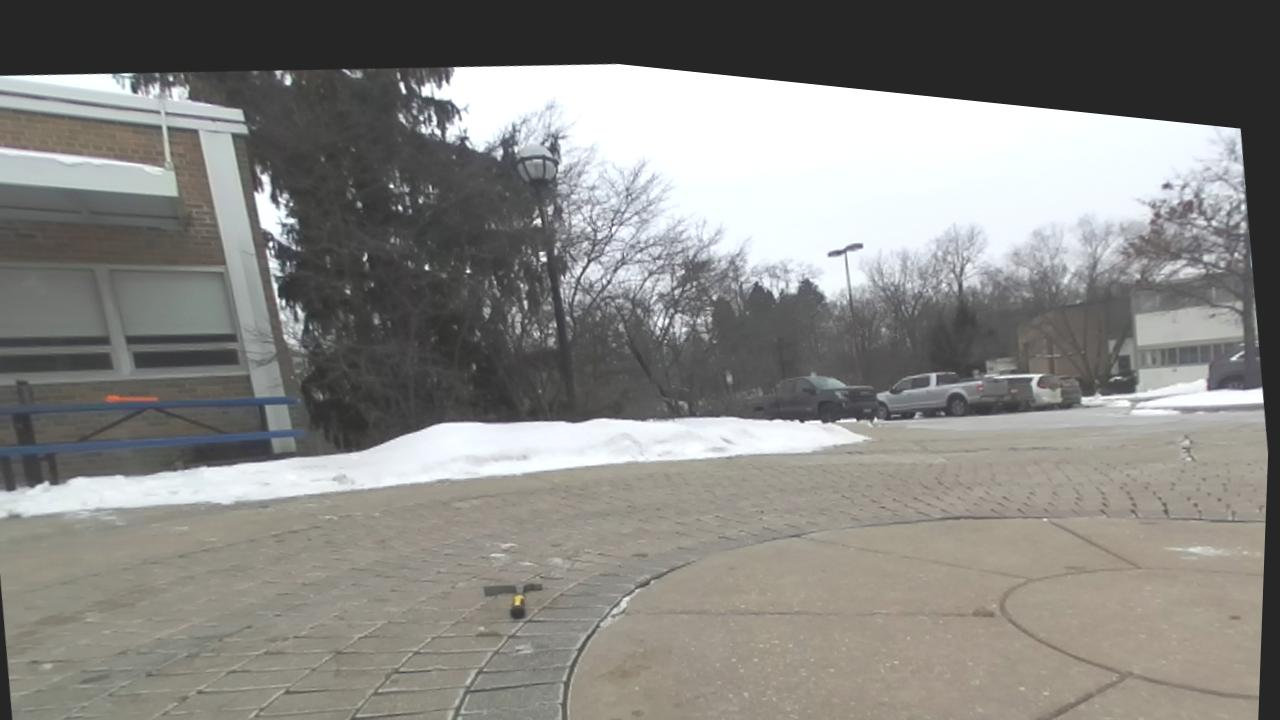pick: (484, 583, 542, 619)
